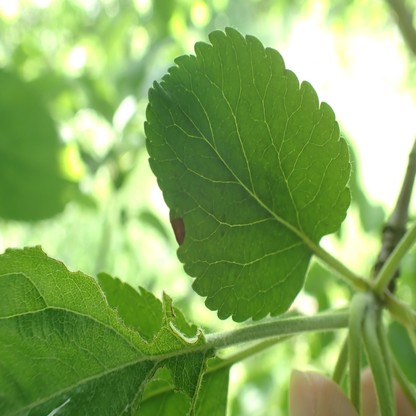frogeye_leaf_spot: (169, 216, 185, 245)
